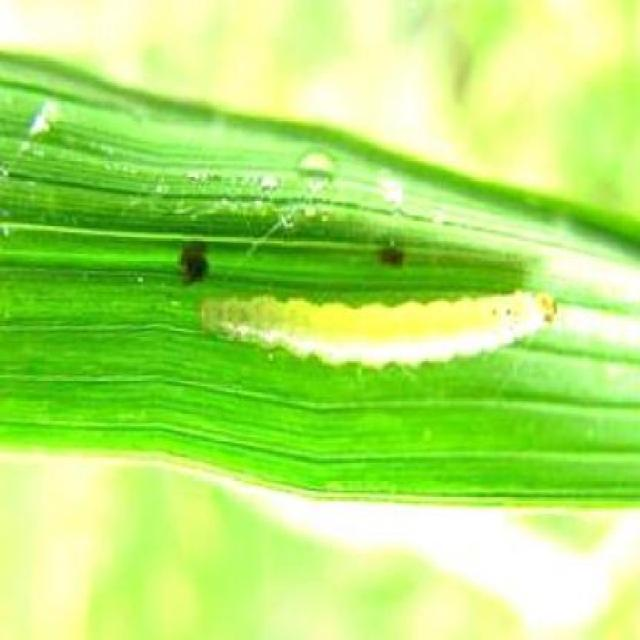leaf-folder: (221, 252, 564, 402)
